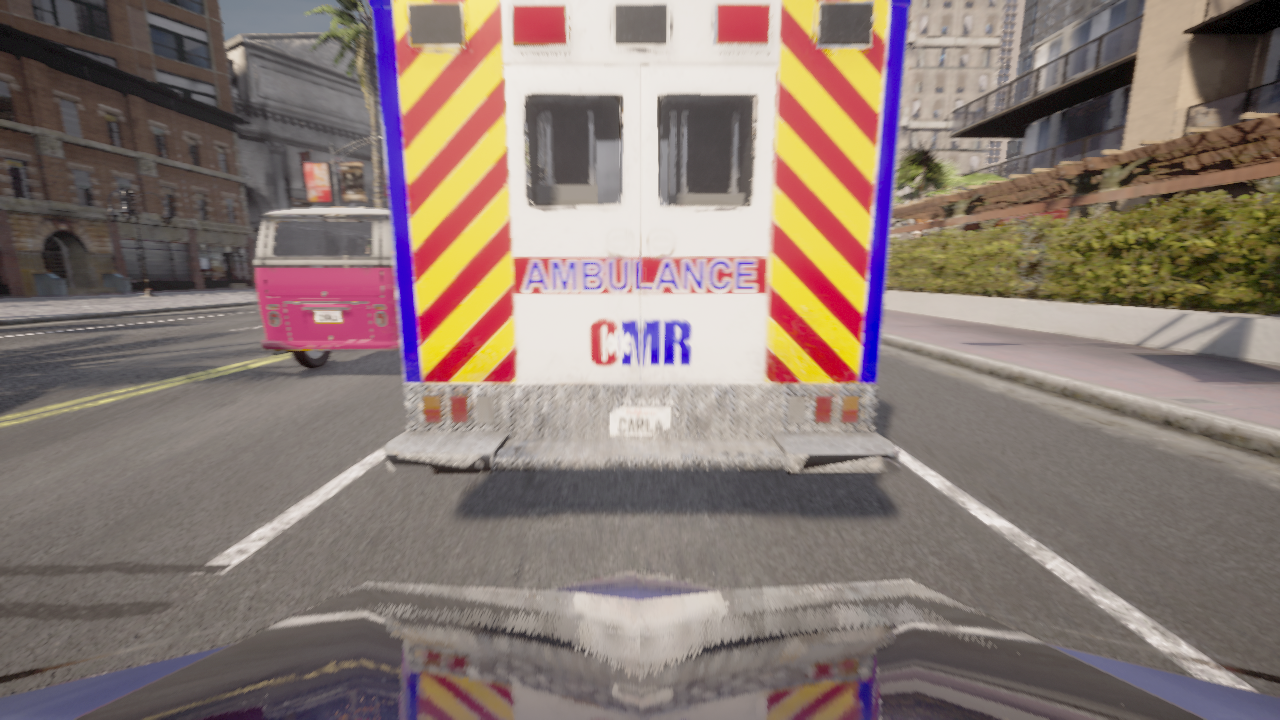cyclist: (368, 0, 911, 473), (0, 569, 1279, 719), (253, 207, 400, 367)
